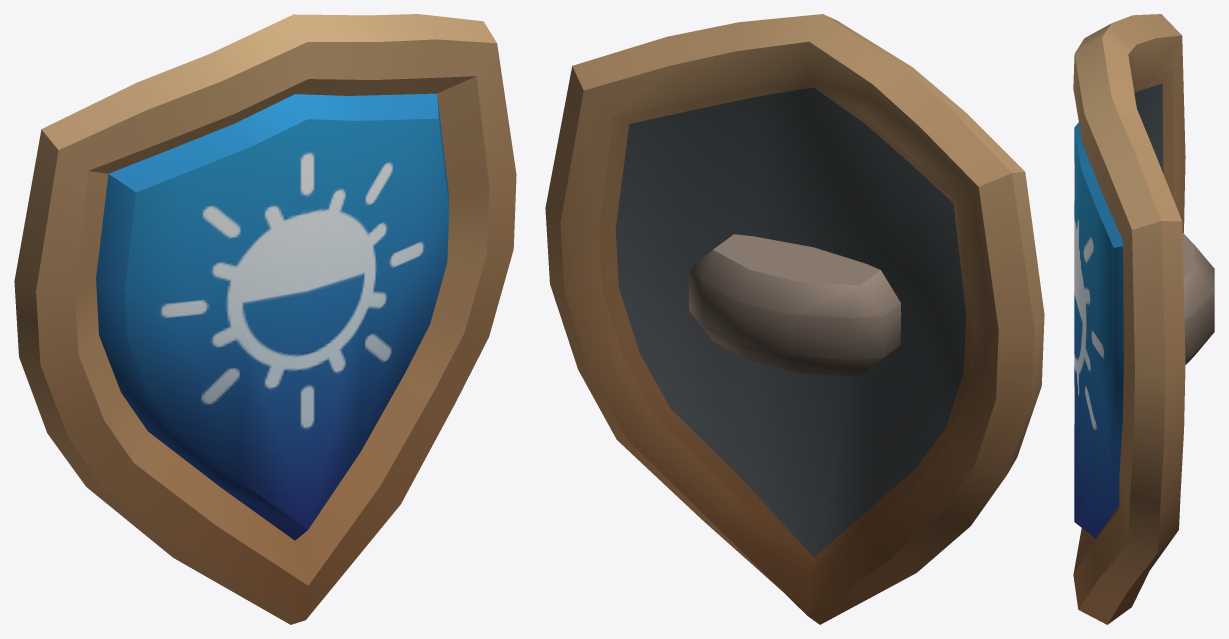
The model's file is paladin_shield.obj.
The picture shows the model from 3 angles, left to right: view 1: azimuth 30°, elevation 25°; view 2: azimuth 150°, elevation 25°; view 3: azimuth 270°, elevation 25°; orthographic projection. The views are drawn at different scales.
Parts seen in each view (by area): view 1: paladin_shield; view 2: paladin_shield; view 3: paladin_shield.
Part boxes in pixels (x1,y1,x2,y2): paladin_shield: (14, 14, 516, 624); paladin_shield: (545, 14, 1044, 624); paladin_shield: (1073, 14, 1214, 624).
Bounding box in the file's own units: 0.806 × 0.9592 × 0.2091.
Materials: 2 (2 with a texture image).
